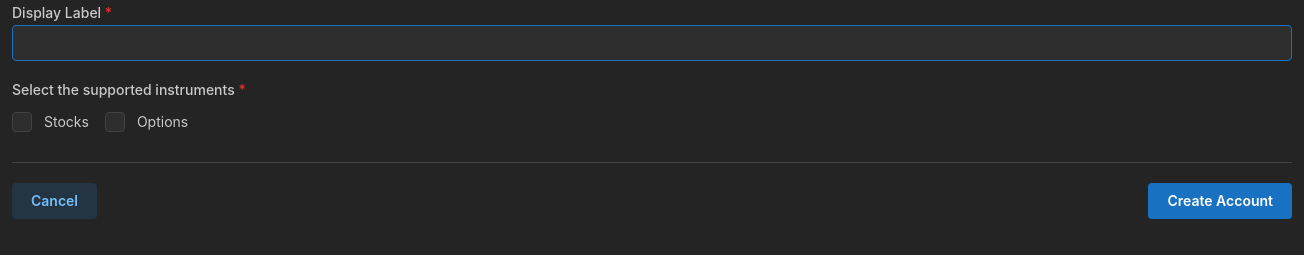
Test: TradeAccountForm › should fail to return values while having an empty label field
Click the checkbox labelled "Stocks" at {"x": 22, "y": 122}, box [12, 112, 32, 132]
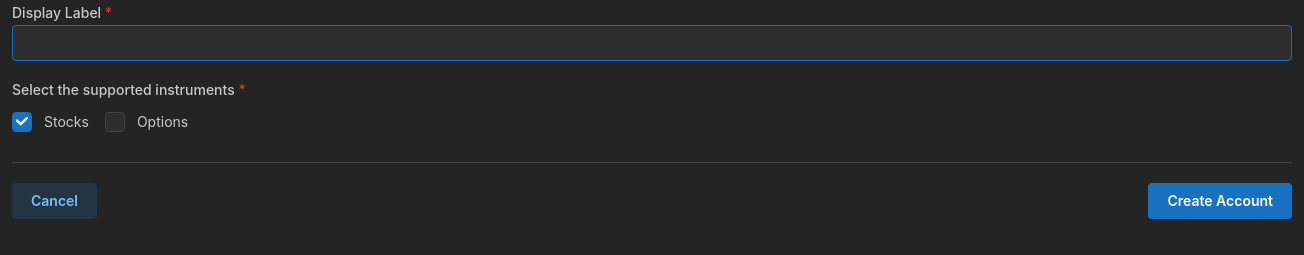
Click the checkbox labelled "Options" at {"x": 115, "y": 122}, box [105, 112, 125, 132]
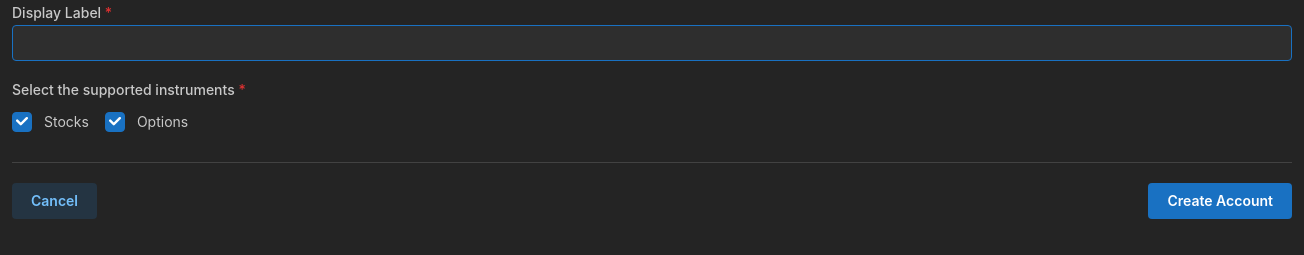
Click the button "Create Account" at {"x": 1220, "y": 201}, box [1148, 183, 1292, 219]
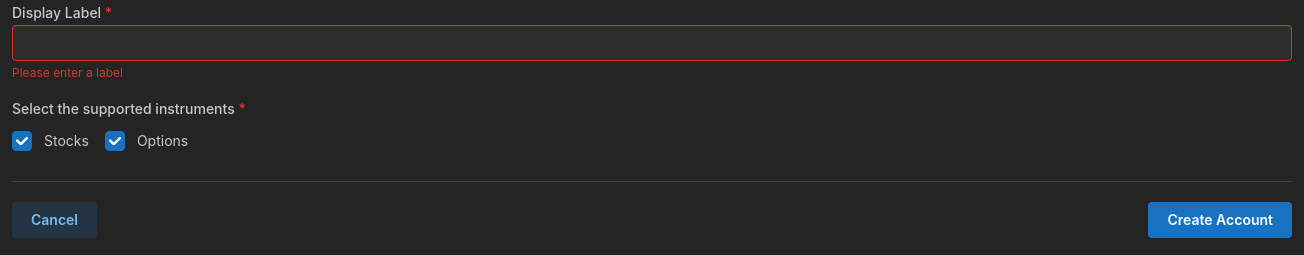
Result: the text "Please enter a label" is shown at [12, 65, 123, 80]
